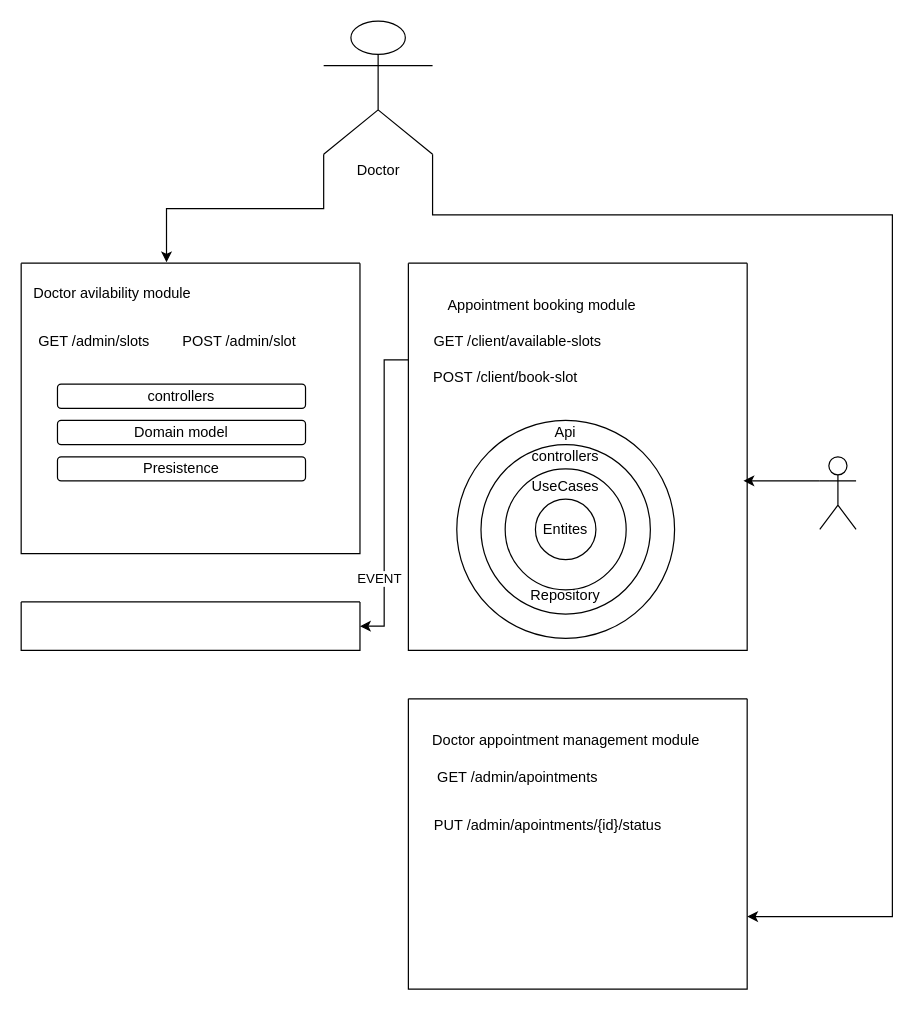
Some shapes in this 923 by 1010 pixel diagram are drawn without their labels. The shapes that lost their labels are listed below. From the top down, each one's centre as x and y in pixels, then its label:
At (x=837, y=492): "Patient".
At (x=190, y=625): "Appointment confirmation module".
